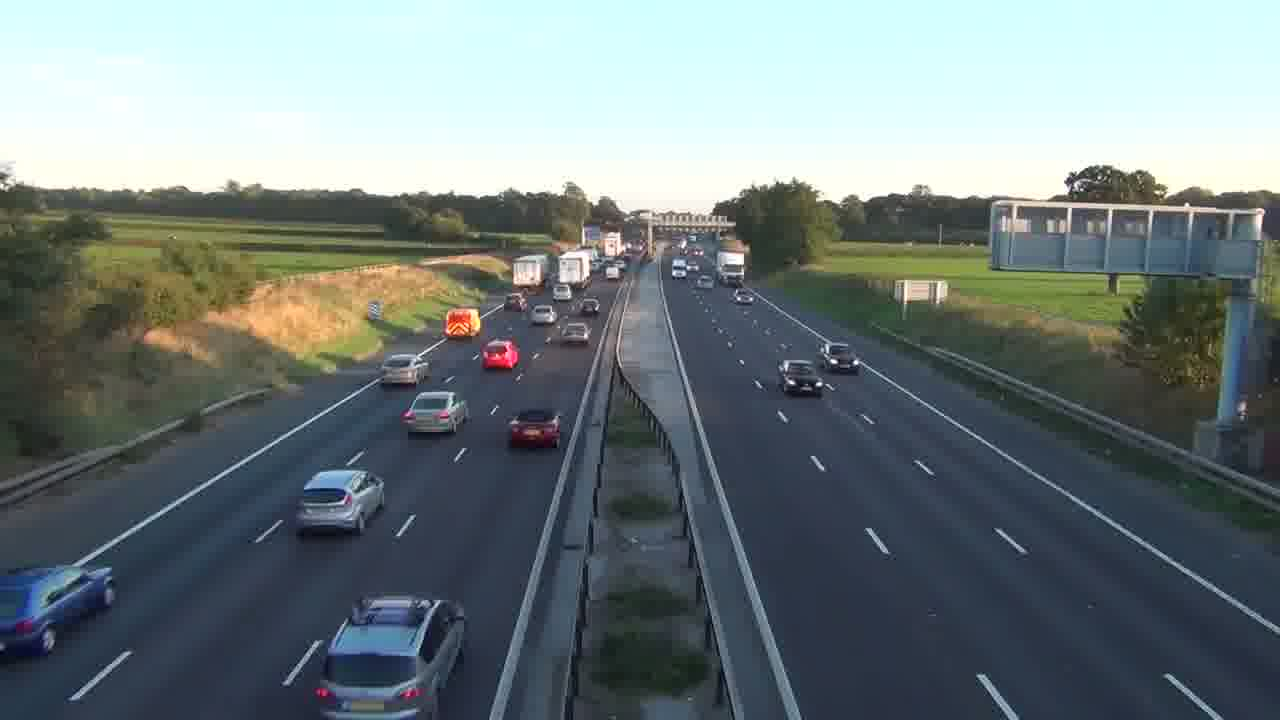bus: (444, 306, 482, 338)
car: (312, 593, 467, 719), (0, 563, 117, 658), (293, 468, 385, 536), (401, 390, 469, 436), (508, 407, 562, 449), (776, 359, 830, 398), (381, 352, 431, 387), (480, 338, 520, 370), (556, 319, 591, 345)
truck: (0, 563, 117, 658), (717, 248, 746, 287)
